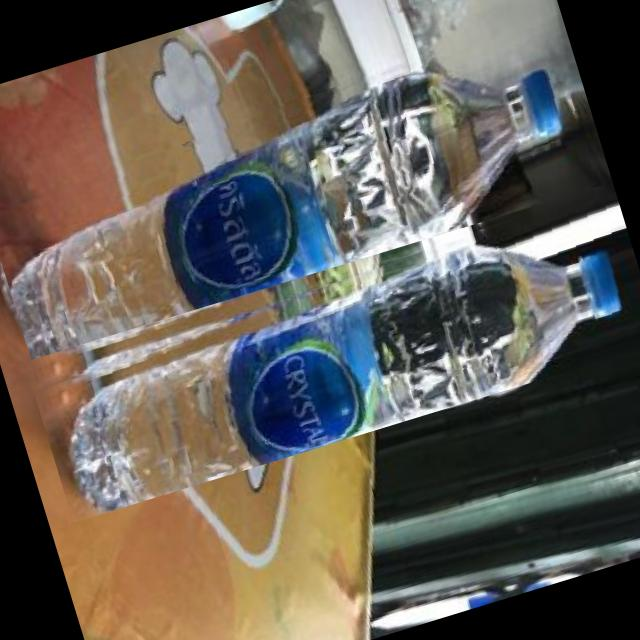plastic bottle: (0, 4, 611, 360), (23, 182, 640, 522)
